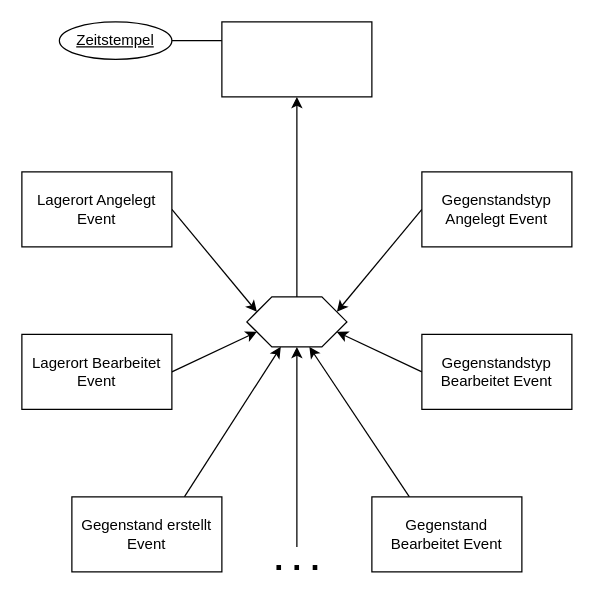
Image size: 594x606. Some labels were removed from this diagram. Each missing label, with the centre of its shape:
"Event" goes at (296,59).
"is-a" goes at (296,321).
